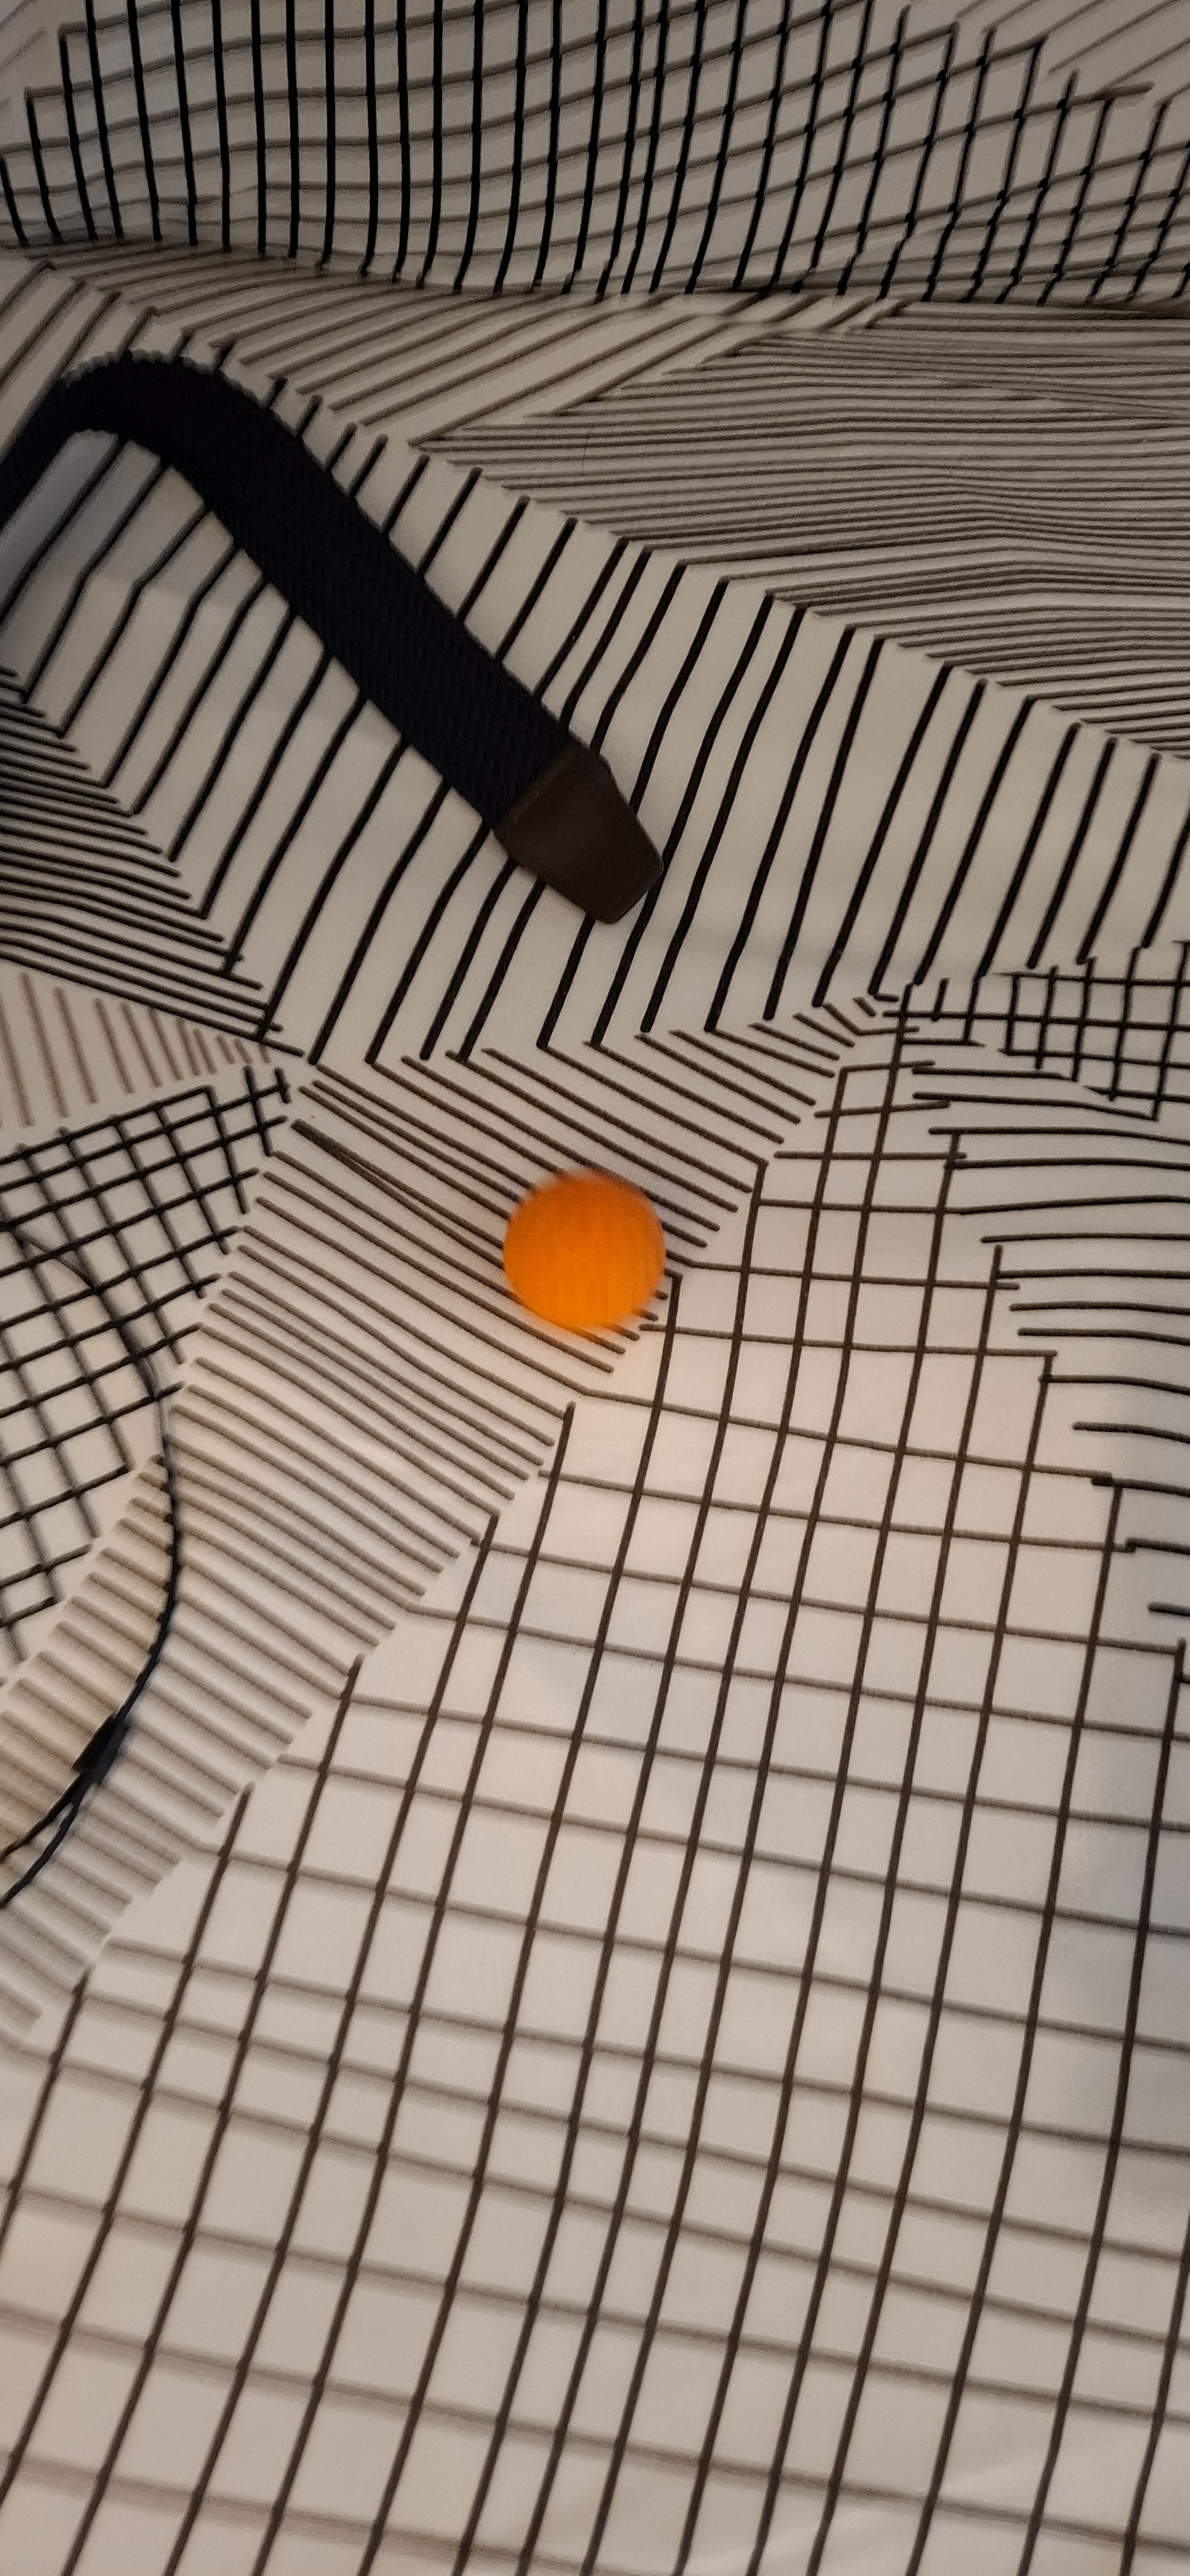ball: (541, 1137, 615, 1485)
